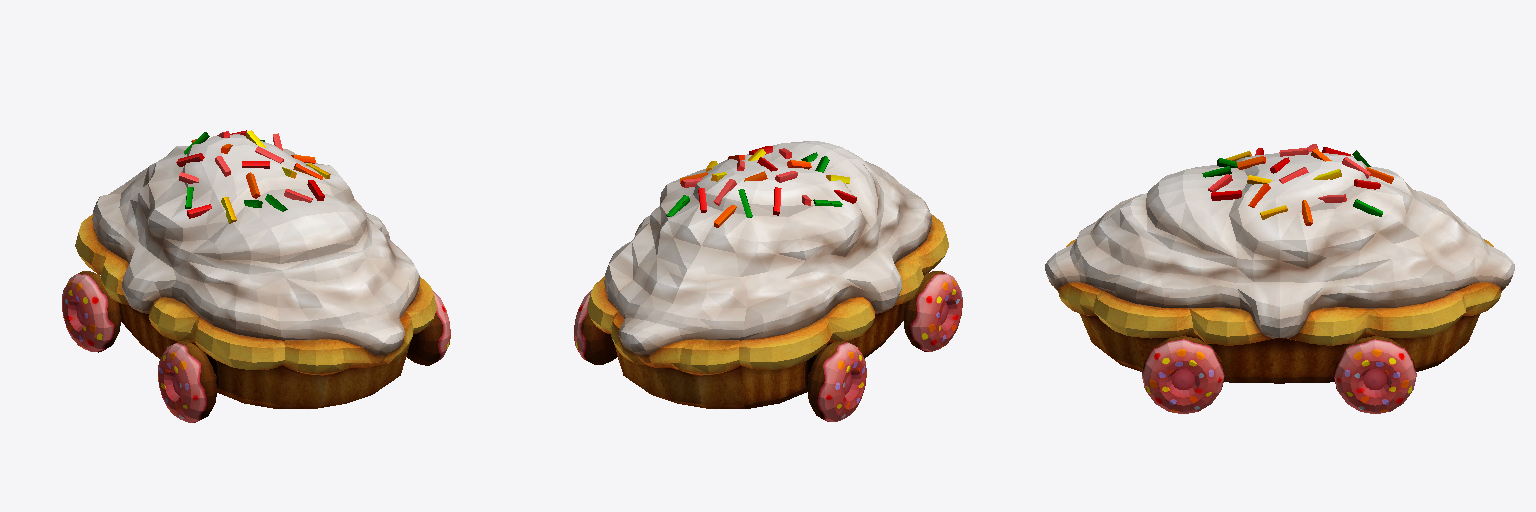
The picture shows the model from 3 angles: view 1: azimuth 30°, elevation 25°; view 2: azimuth 150°, elevation 25°; view 3: azimuth 270°, elevation 25°; orthographic projection.
Visible parts, largest first — view 1: Group1, Group9, Group8, Group2, Group7, Group3; view 2: Group1, Group8, Group9, Group2, Group6, Group4; view 3: Group1, Group7, Group6, Group2, Group4, Group3.
Boxes of the visible parts, <box> form: Group1: <box>75,134,436,408</box>; Group9: <box>158,341,216,422</box>; Group8: <box>62,271,120,352</box>; Group2: <box>179,130,330,223</box>; Group7: <box>407,290,450,365</box>; Group3: <box>244,180,324,211</box>; Group1: <box>587,141,948,408</box>; Group8: <box>807,341,866,421</box>; Group9: <box>904,271,962,351</box>; Group2: <box>680,149,856,206</box>; Group6: <box>574,290,617,364</box>; Group4: <box>666,179,752,227</box>; Group1: <box>1045,152,1514,383</box>; Group7: <box>1142,336,1224,413</box>; Group6: <box>1334,336,1416,413</box>; Group2: <box>1226,144,1346,225</box>; Group4: <box>1342,150,1393,216</box>; Group3: <box>1202,158,1241,200</box>.
Size of the model in its own units: 13.98 by 10.03 by 21.34.
Materials: 1 (1 with a texture image).